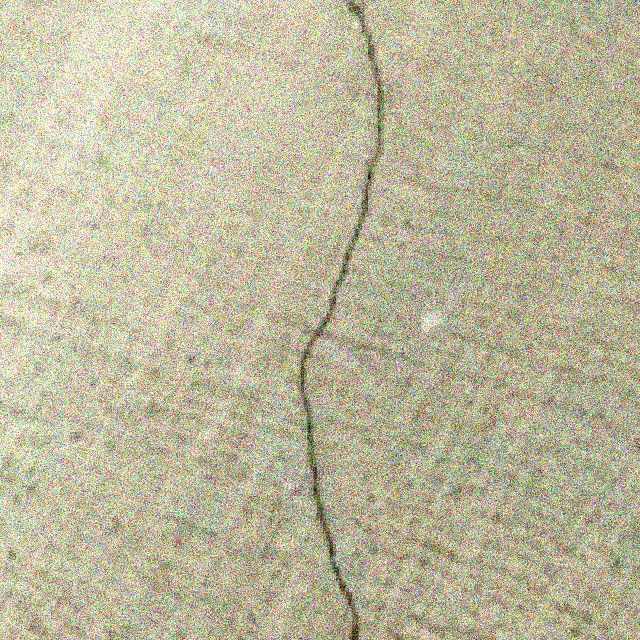SurfaceCrack: (286, 0, 430, 640)
